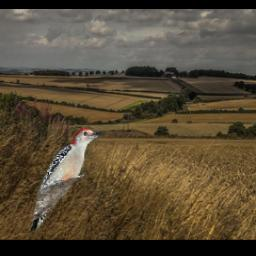Woodpecker: (30, 127, 106, 233)
